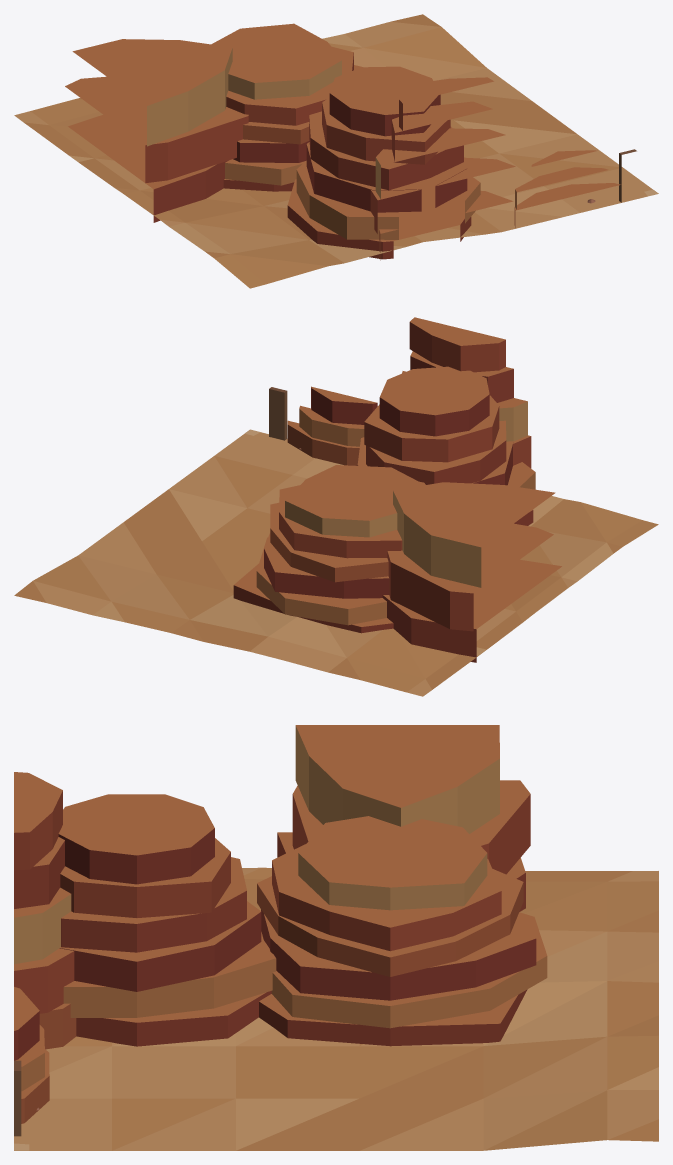
3 views of the same model, one above another, from view 1: azimuth 30°, elevation 25°; view 2: azimuth 150°, elevation 25°; view 3: azimuth 270°, elevation 25° (orthographic). The views are drawn at different scales.
Visible parts, largest first — view 1: baked; view 2: baked; view 3: baked.
Boxes of the visible parts, left/top/right/bottom form: baked: left=14, top=14, right=658, bottom=288; baked: left=14, top=317, right=658, bottom=696; baked: left=14, top=725, right=658, bottom=1150.
Size of the model in its own units: 62.5 by 22.27 by 62.5.
